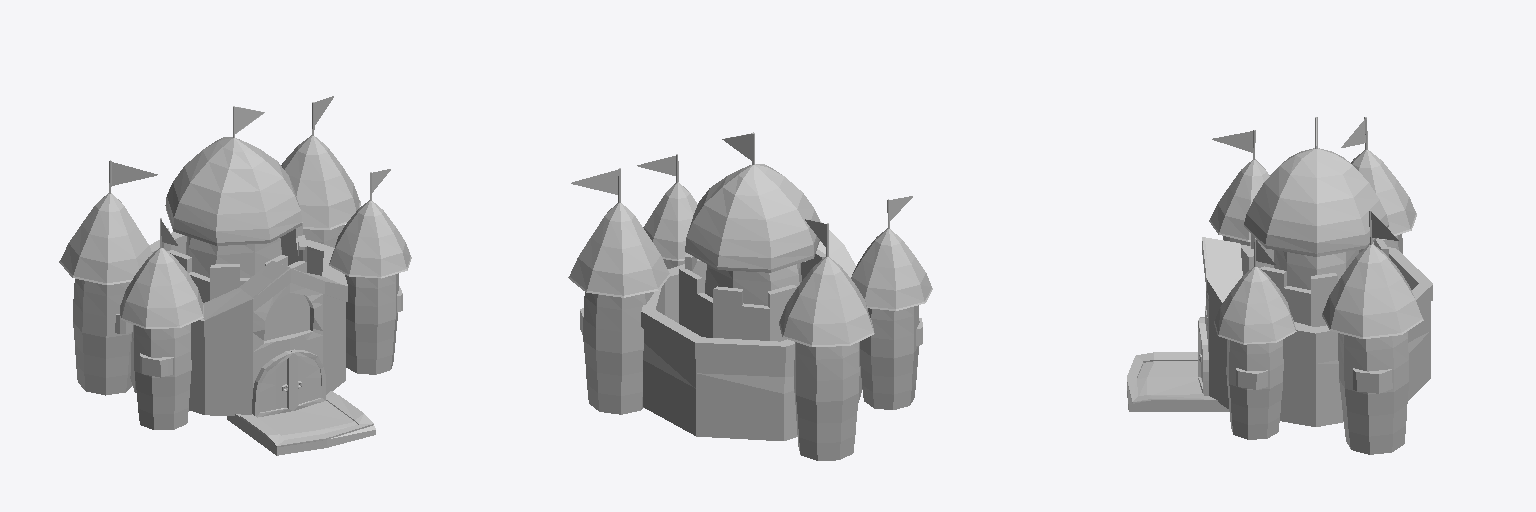
Rendered from castle2.obj.
3 views of the same model, side by side, from view 1: azimuth 30°, elevation 25°; view 2: azimuth 150°, elevation 25°; view 3: azimuth 270°, elevation 25° (orthographic).
Visible parts, largest first — view 1: Fachada, Tapa, Torre3, Tapa_3, piso, Torre1, Torre2, Tapa_1, Tapa_4, Tapa_2, Torre.2, Torre (+5 smaller); view 2: Fachada, Tapa, Torre3, Torre4, Tapa_4, Torre.2, Tapa_3, Torre1, Tapa_1, Tapa_2, Torre, Banderin_4; view 3: Fachada, Tapa, Torre4, Tapa_4, piso, Torre2, Tapa_2, Torre.2, Tapa_1, Tapa_3, Torre, ladrillo_0.1_3 (+2 smaller).
Part boxes in pixels (left/top/right/bottom): Fachada: left=130, top=232, right=347, bottom=415; Tapa: left=165, top=137, right=301, bottom=245; Torre3: left=73, top=279, right=132, bottom=395; Tapa_3: left=59, top=193, right=152, bottom=284; piso: left=227, top=391, right=375, bottom=455; Torre1: left=134, top=324, right=191, bottom=429; Torre2: left=345, top=273, right=398, bottom=374; Tapa_1: left=120, top=248, right=203, bottom=328; Tapa_4: left=281, top=135, right=360, bottom=229; Tapa_2: left=329, top=200, right=411, bottom=278; Torre.2: left=162, top=222, right=306, bottom=302; Torre: left=186, top=236, right=281, bottom=277; Fachada: left=641, top=221, right=862, bottom=440; Tapa: left=685, top=164, right=820, bottom=272; Torre3: left=794, top=342, right=859, bottom=460; Torre4: left=583, top=292, right=653, bottom=414; Tapa_4: left=568, top=203, right=669, bottom=297; Torre.2: left=679, top=249, right=825, bottom=341; Tapa_3: left=779, top=257, right=874, bottom=346; Torre1: left=860, top=305, right=919, bottom=409; Tapa_1: left=851, top=228, right=932, bottom=310; Tapa_2: left=643, top=182, right=697, bottom=260; Torre: left=705, top=263, right=801, bottom=305; Banderin_4: left=571, top=169, right=618, bottom=194; Fachada: left=1202, top=237, right=1432, bottom=426; Tapa: left=1244, top=148, right=1388, bottom=256; Torre4: left=1338, top=331, right=1408, bottom=454; Tapa_4: left=1322, top=244, right=1423, bottom=338; piso: left=1127, top=352, right=1228, bottom=411; Torre2: left=1226, top=339, right=1283, bottom=439; Tapa_2: left=1214, top=267, right=1296, bottom=344; Torre.2: left=1241, top=234, right=1388, bottom=326; Tapa_1: left=1209, top=159, right=1269, bottom=241; Tapa_3: left=1351, top=150, right=1416, bottom=239; Torre: left=1274, top=250, right=1358, bottom=289; ladrillo_0.1_3: left=1353, top=368, right=1392, bottom=393.
Size of the model in its own units: 97.79 by 87.54 by 88.76.